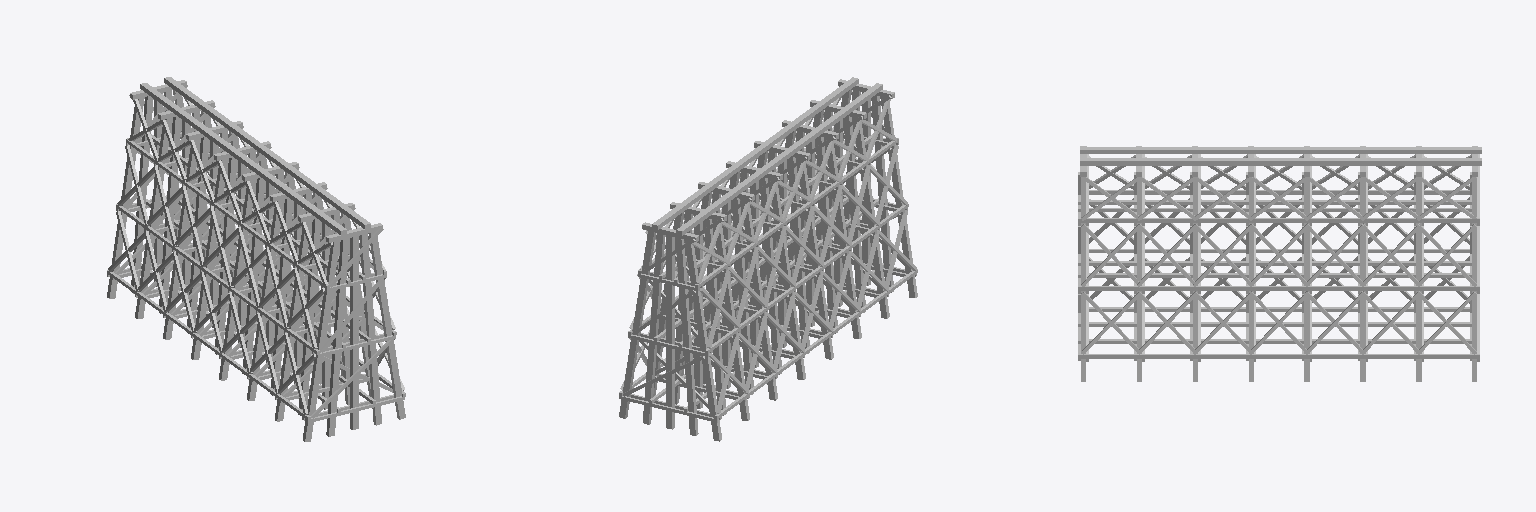
File: bridge.obj
3 views of the same model, side by side, from view 1: azimuth 30°, elevation 25°; view 2: azimuth 150°, elevation 25°; view 3: azimuth 270°, elevation 25° (orthographic).
Visible parts, largest first — view 1: cube; view 2: cube; view 3: cube.
Part boxes in pixels (left/top/right/bottom): cube: left=107, top=77, right=405, bottom=441; cube: left=619, top=77, right=917, bottom=441; cube: left=1078, top=146, right=1481, bottom=381.
Size of the model in its own units: 8.34 by 16.1 by 28.88.